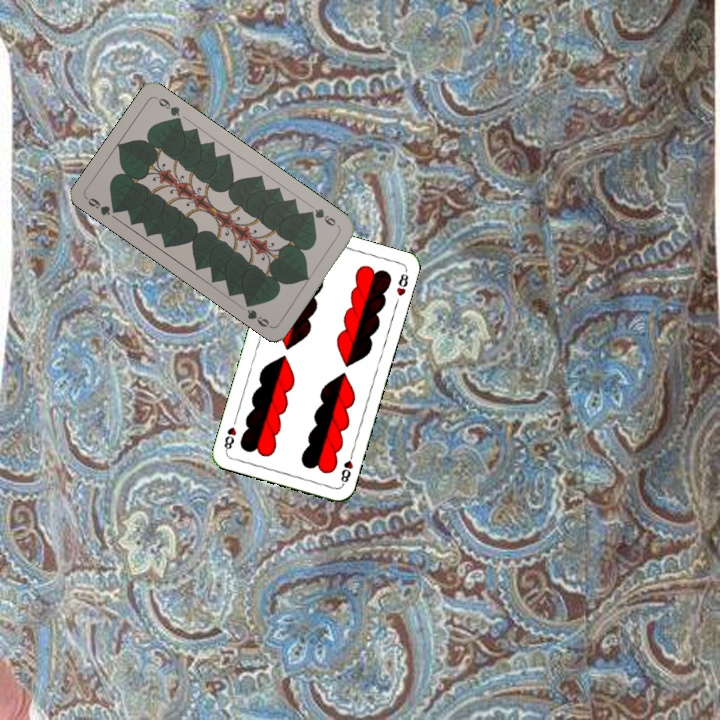G9: (304, 202, 342, 230), (82, 194, 122, 218)
H8: (337, 448, 356, 488)
